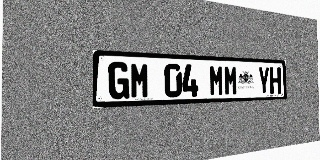0: (164, 63, 182, 98)
4: (182, 64, 198, 97)
G: (108, 61, 129, 99)
H: (270, 67, 281, 94)
M: (130, 62, 150, 99), (209, 65, 224, 96), (224, 65, 238, 96)
Y: (258, 67, 270, 94)
